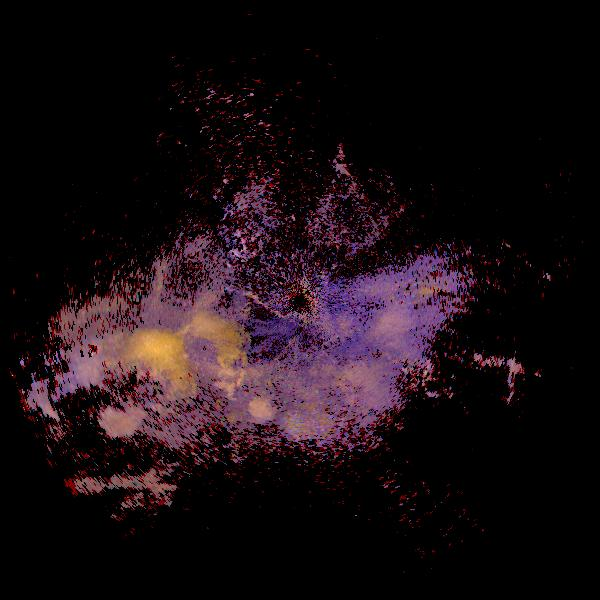roost: (119, 297, 260, 438), (61, 315, 190, 444)
